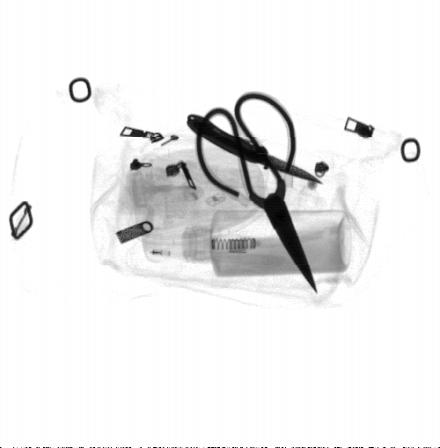Knife: (186, 113, 324, 184)
Scissors: (193, 91, 317, 294)
